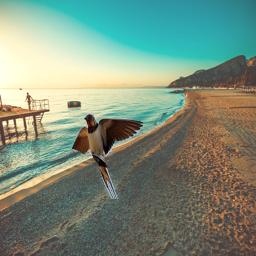Swallow: (71, 114, 143, 199)
